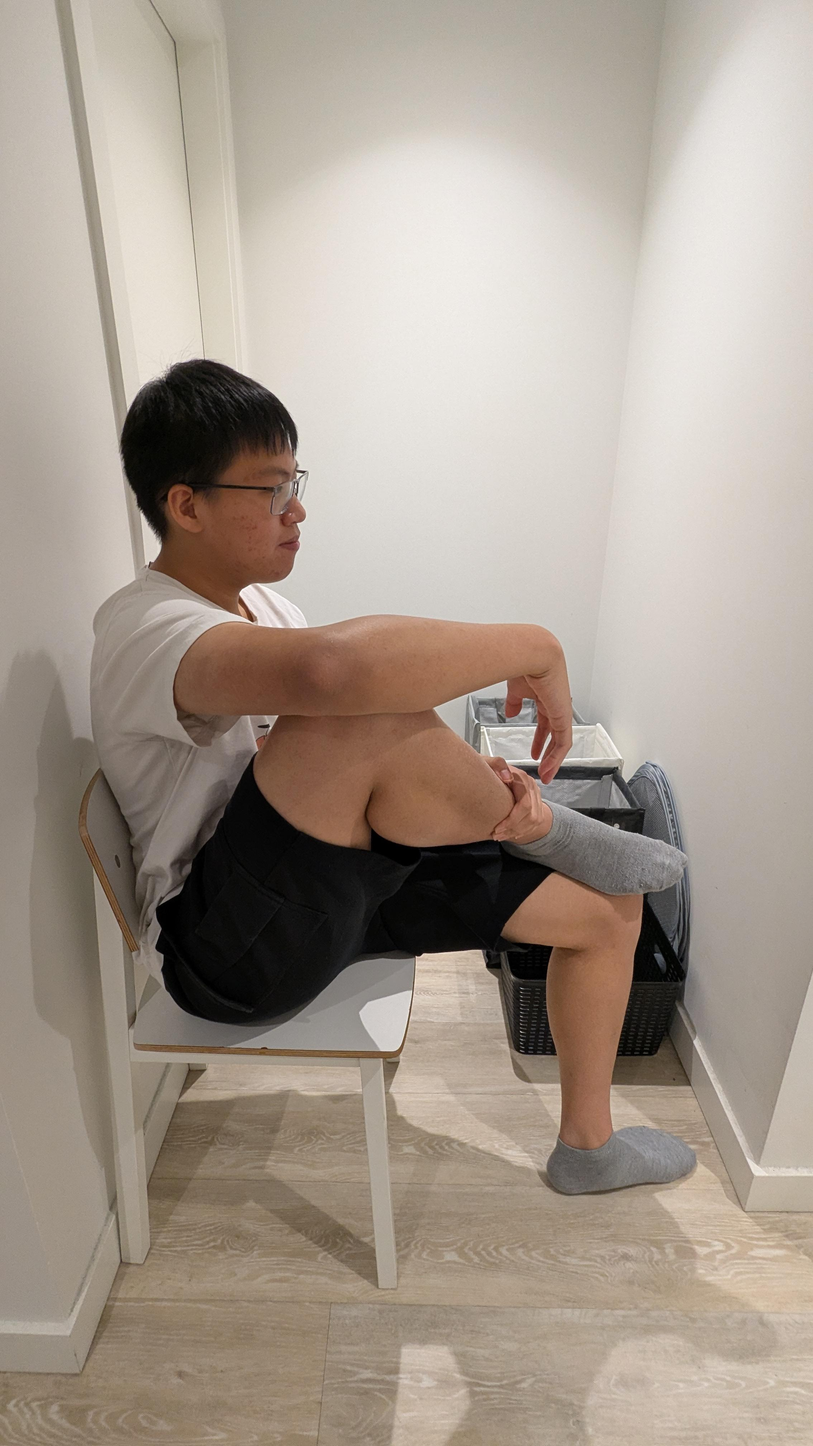BadPosture: (90, 359, 696, 1192)
